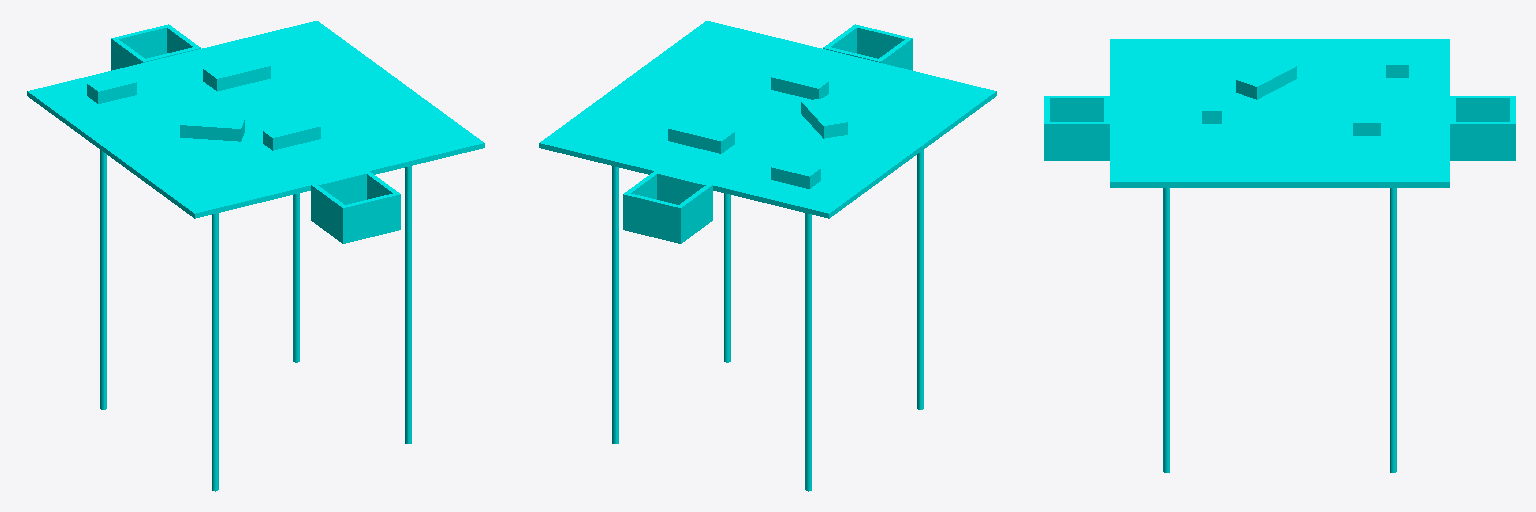
The robot description file, URDF, robot "mesa":
<?xml version="1.0"?>
<robot name="mesa">

  <link name="base_link">
    <inertial>
      <mass value="20.0"/>
      <inertia ixx="1.0" ixy="0.0" ixz="0.0" iyy="1.0" iyz="0.0" izz="1.0"/>
    </inertial>
  </link>

  <link name="mesa_link"> <visual>
      <origin rpy="0.0 0.0 0.0" xyz="0.0 0.0 0.0"/>
      <geometry>
        <mesh filename="package://uuv_visualization/meshes/mesa.stl" scale="1.0 1.0 1.0"/>
      </geometry>
      <material name="Cyan">
        <color rgba="0 1.0 1.0 1.0"/>
      </material>
    </visual>
    <collision>
      <origin rpy="1.57 0.0 0.0" xyz="0 0 0"/> <geometry>
        <box size="1.0 0.5 0.5"/>
      </geometry>
    </collision>
    <inertial>
      <mass value="0.1"/> 
      <inertia ixx="0.001" ixy="0" ixz="0" iyy="0.001" iyz="0" izz="0.001"/>
    </inertial>
  </link>

  <joint name="base_to_mesa" type="fixed">
    <parent link="base_link"/>
    <child link="mesa_link"/> <origin xyz="0 0 0" rpy="0 0 0"/>
  </joint>

  <gazebo reference="base_link">
    <static>true</static> <gravity>0</gravity>
  </gazebo>

  <gazebo>
    <plugin
        filename="ignition-gazebo-pose-publisher-system"
        name="ignition::gazebo::systems::PosePublisher">
        <publish_link_pose>false</publish_link_pose>
        <publish_model_pose>true</publish_model_pose>
        <update_frequency>50</update_frequency> 
    </plugin>
  </gazebo>

</robot>

--- Facts derived from the render (not from the file) ---
3 views of the same robot in one strip: view 1: azimuth 30°, elevation 25°; view 2: azimuth 150°, elevation 25°; view 3: azimuth 270°, elevation 25° (orthographic).
Model mesa with 2 links and 1 joints (1 fixed), rooted at base_link, posed all joints at 0.
Visible links, largest first — view 1: mesa_link; view 2: mesa_link; view 3: mesa_link.
Link boxes in pixels (x1,y1,x2,y2): mesa_link: [27, 21, 484, 491]; mesa_link: [539, 21, 996, 491]; mesa_link: [1044, 39, 1515, 472].
Size in the robot's own frame: 0.6 by 0.832 by 0.6349 metres.
1 mesh visuals loaded from 1 distinct referenced files (1 binary STL).
